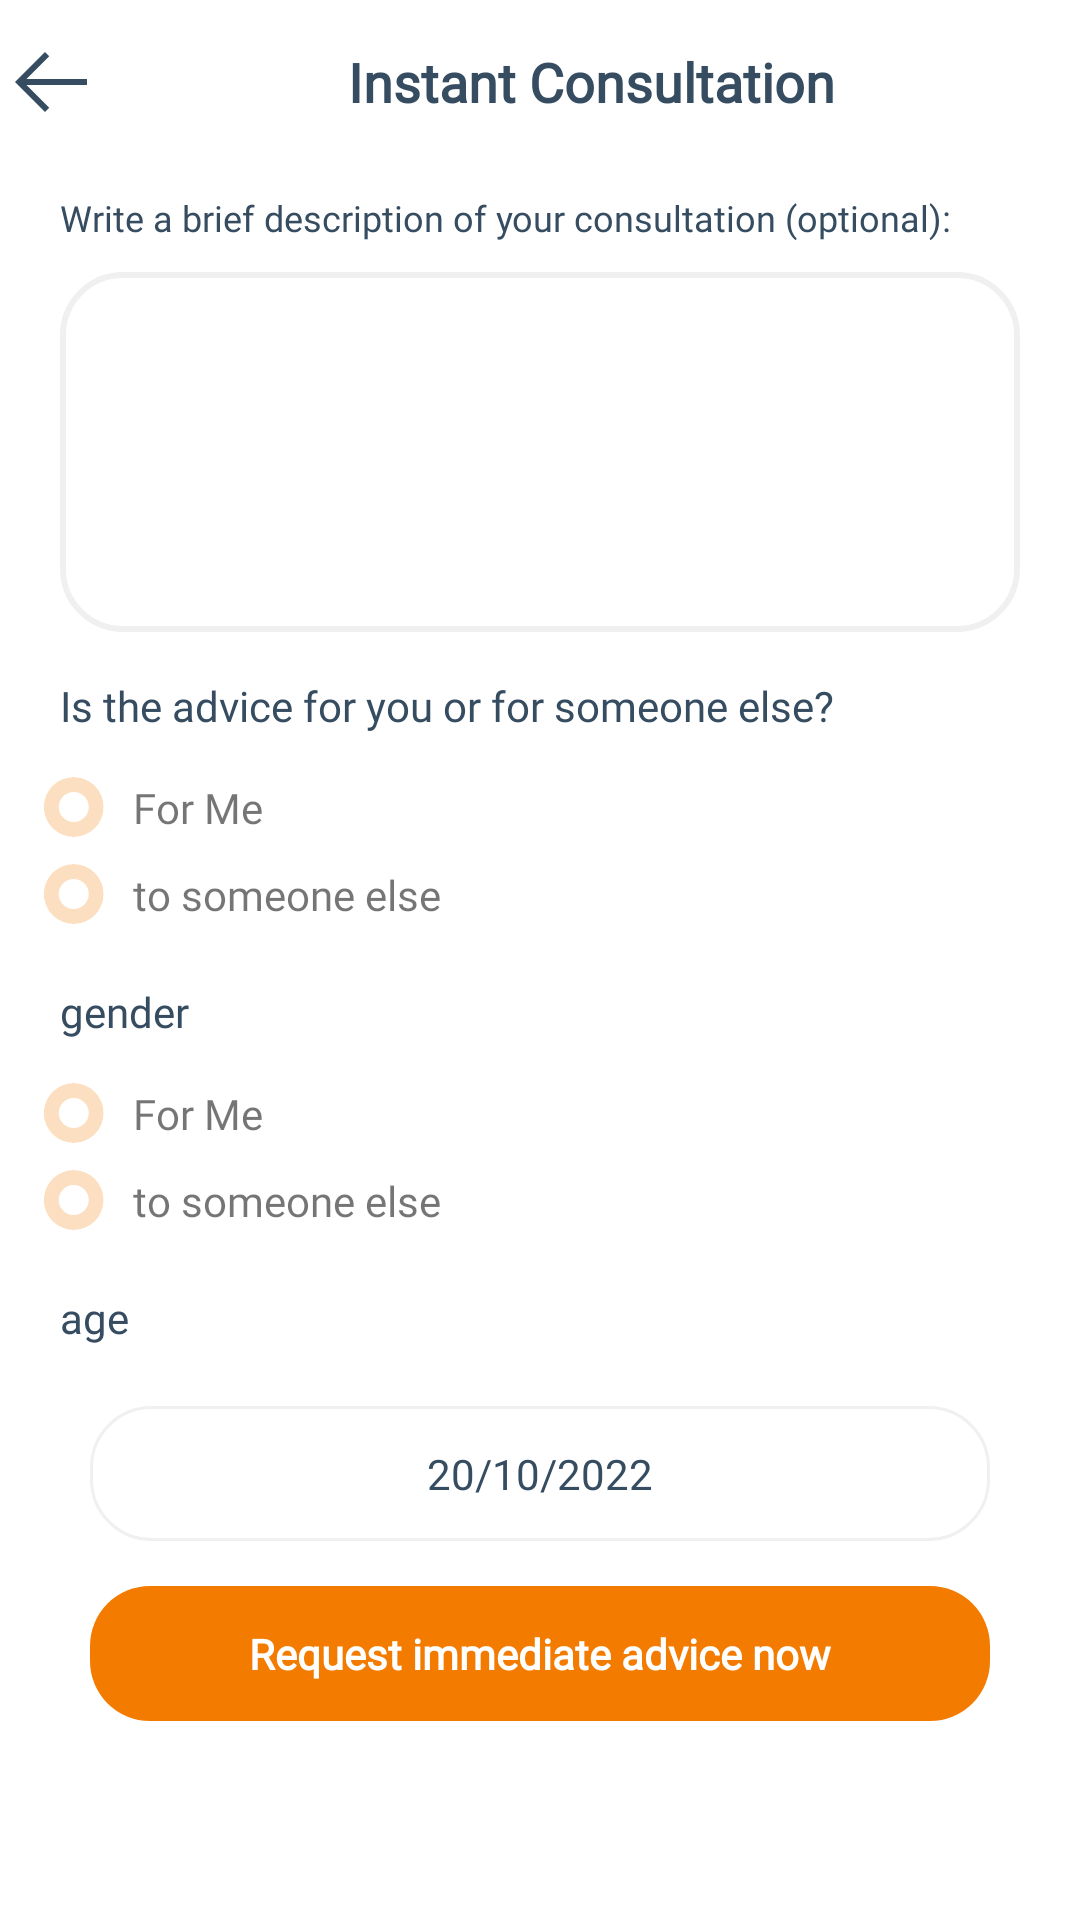

Icon bounding boxes for this 1080 x 1920 phone screenshot, format (x1, y1, x2, y2):
back: (15, 52, 87, 112)
